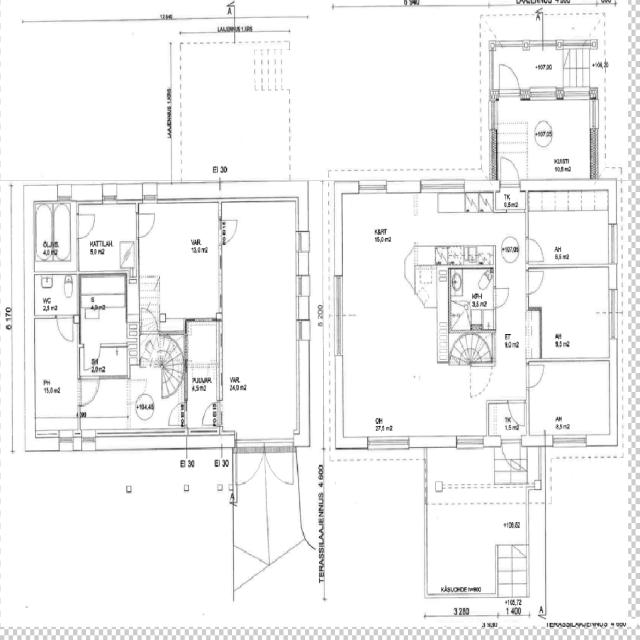door: (322, 450, 426, 626), (232, 440, 265, 490), (263, 441, 297, 488), (468, 361, 494, 398), (497, 62, 522, 99), (500, 435, 524, 472), (498, 152, 522, 188), (77, 374, 101, 409), (74, 209, 98, 242), (135, 208, 158, 241), (524, 235, 548, 264), (218, 216, 240, 247), (506, 397, 528, 428), (199, 399, 221, 430), (524, 266, 546, 296), (524, 360, 546, 390), (55, 314, 76, 345), (166, 402, 186, 429), (492, 285, 512, 310)
window: (328, 270, 347, 359), (365, 433, 414, 457), (421, 173, 466, 196), (605, 285, 621, 345), (550, 432, 589, 452), (453, 432, 486, 453), (606, 220, 620, 267), (294, 224, 310, 264), (560, 87, 594, 104), (216, 253, 226, 310), (527, 87, 560, 103), (356, 179, 388, 195), (488, 95, 500, 135), (587, 98, 600, 134)
zone: (338, 186, 526, 436), (2, 17, 176, 182), (218, 196, 300, 441), (321, 452, 426, 622), (135, 200, 221, 331), (493, 93, 595, 182), (526, 266, 614, 362), (410, 190, 508, 266), (525, 360, 614, 443), (526, 190, 613, 268), (33, 318, 80, 437), (79, 271, 131, 372), (77, 201, 138, 275), (184, 317, 220, 428), (491, 41, 563, 93), (34, 198, 75, 276), (449, 266, 495, 330), (34, 274, 78, 318)
